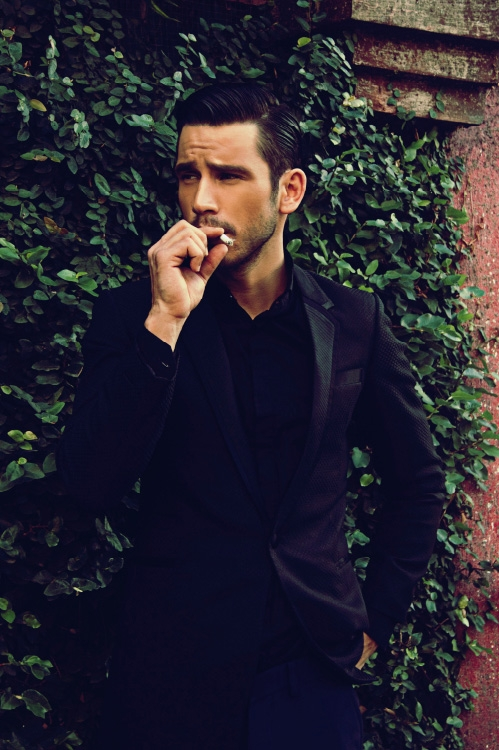cigarette: (217, 230, 242, 253)
